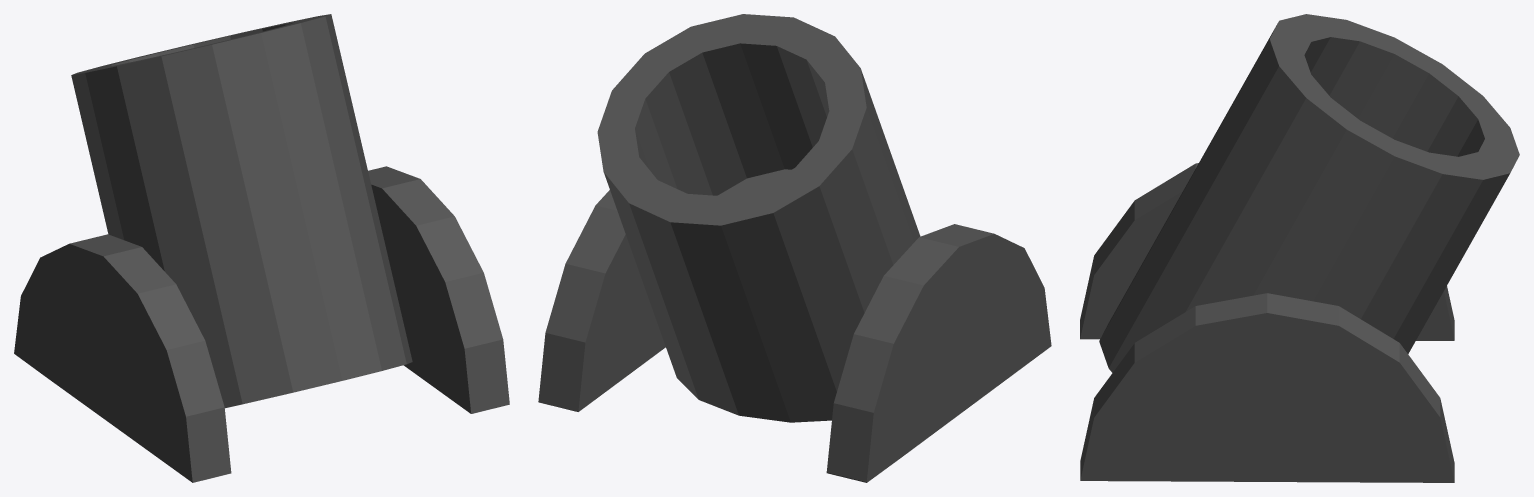
The model's file is artillery battery.obj.
3 views of the same model, side by side, from view 1: azimuth 30°, elevation 25°; view 2: azimuth 150°, elevation 25°; view 3: azimuth 270°, elevation 25° (orthographic). The views are drawn at different scales.
Parts seen in each view (by area): view 1: 円柱.001; view 2: 円柱.001; view 3: 円柱.001.
Boxes of the visible parts, x1,y1,x2,y2 form: 円柱.001: (14, 14, 509, 482); 円柱.001: (538, 14, 1051, 482); 円柱.001: (1080, 14, 1519, 482).
Bounding box in the file's own units: 2.05 × 2.14 × 2.35.
